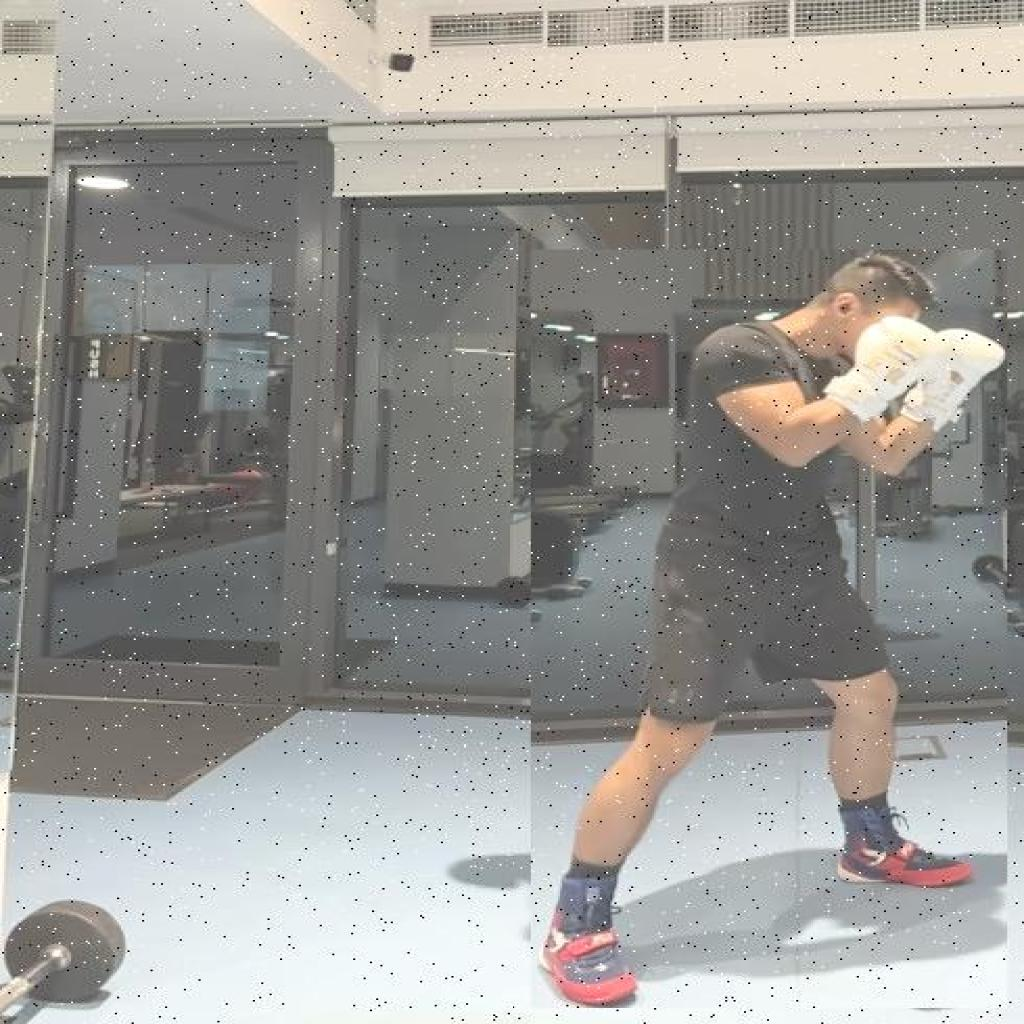no punch: (531, 250, 1006, 1008)
